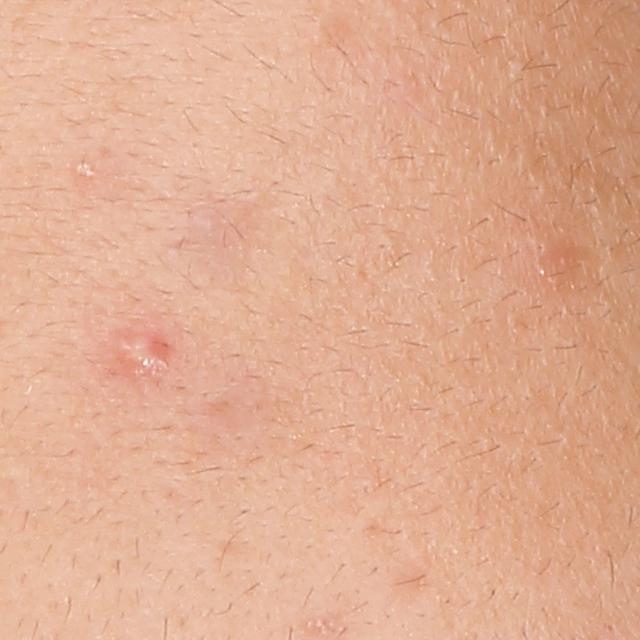papule: (116, 328, 169, 375)
